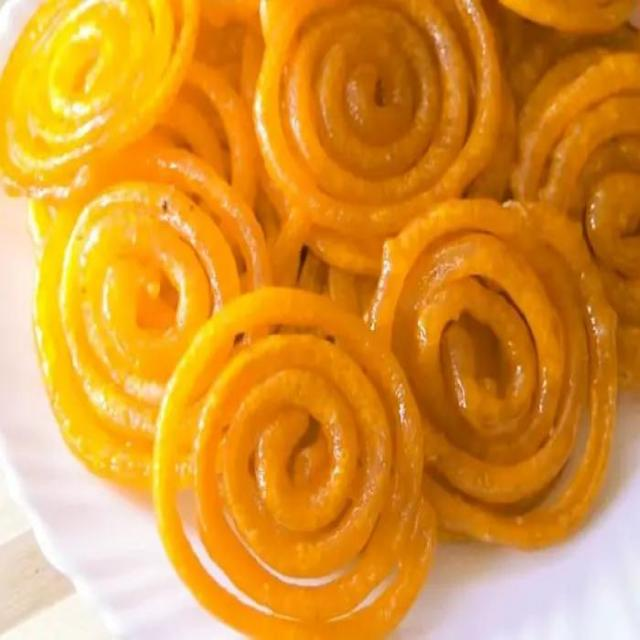jalebi: (7, 7, 640, 638)
